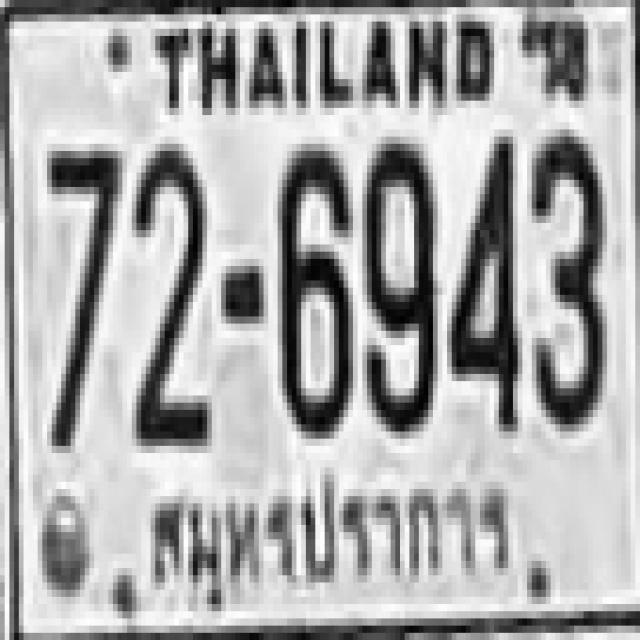2: (129, 140, 205, 442)
3: (527, 130, 602, 424)
4: (447, 130, 518, 424)
6: (273, 140, 348, 435)
7: (42, 144, 118, 446)
9: (362, 137, 433, 424)
SPK: (139, 463, 523, 605)
